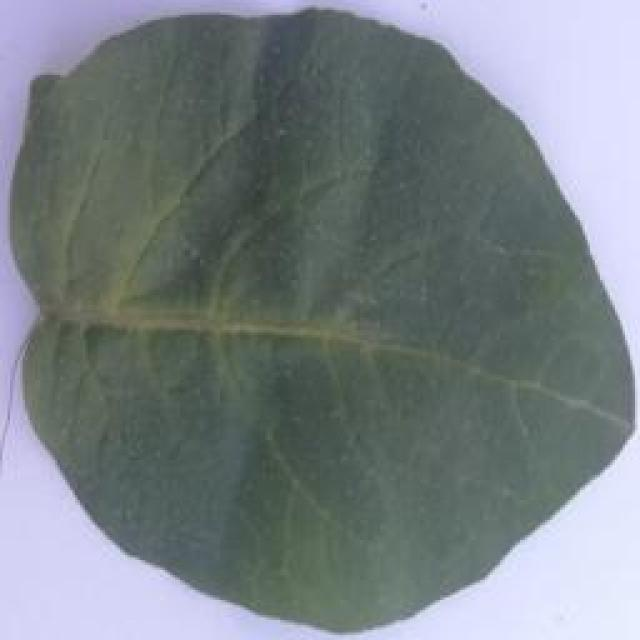Potato_Healthy: (11, 9, 625, 632)
